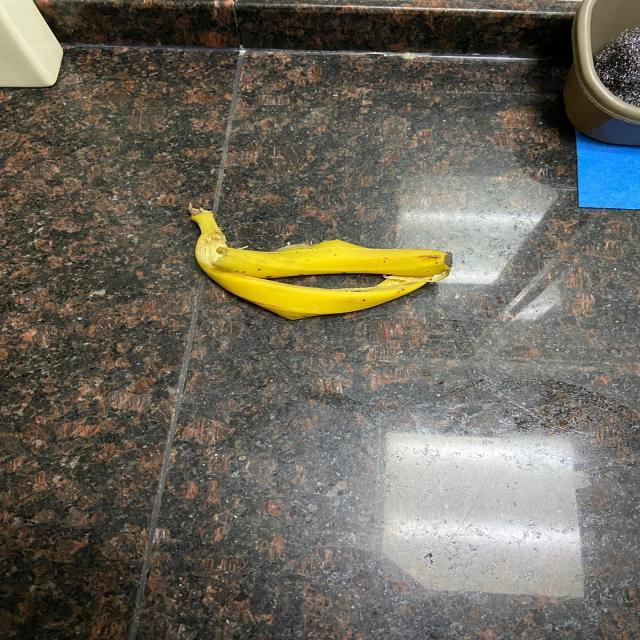banana-peel: (186, 202, 452, 320)
